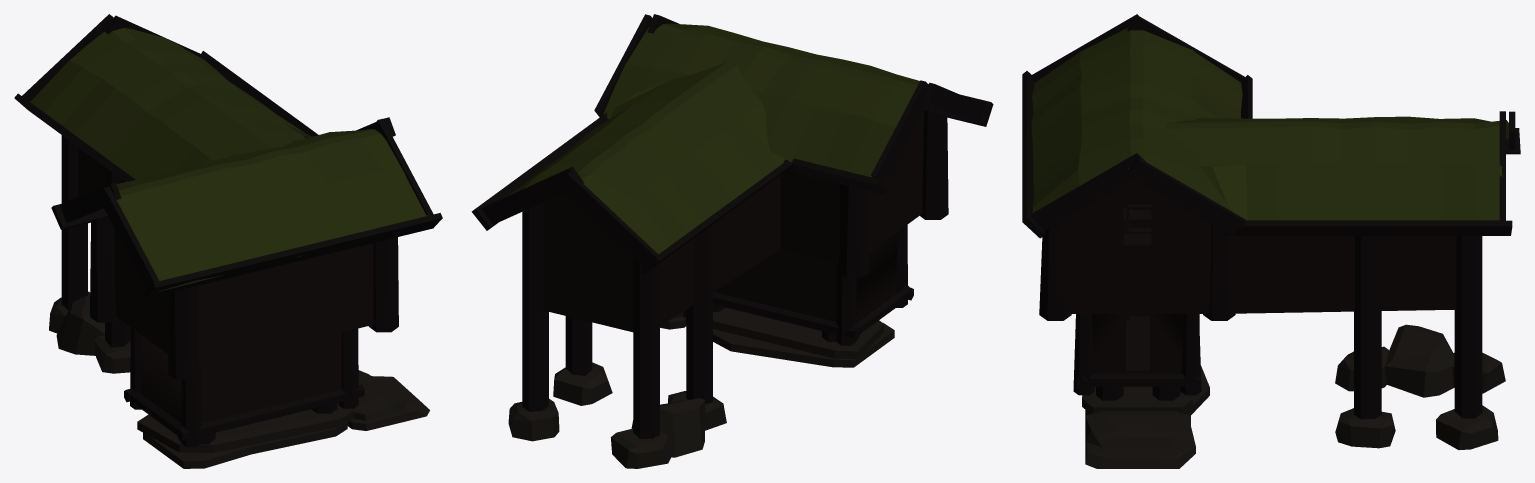
The model's file is Village_SodHouse_4.fbx.
The picture shows the model from 3 angles, left to right: view 1: azimuth 30°, elevation 25°; view 2: azimuth 150°, elevation 25°; view 3: azimuth 270°, elevation 25°; orthographic projection. The views are drawn at different scales.
Parts seen in each view (by area): view 1: Village_SodHouse_4; view 2: Village_SodHouse_4; view 3: Village_SodHouse_4.
Part boxes in pixels (left/top/right/bottom): Village_SodHouse_4: left=14, top=14, right=442, bottom=468; Village_SodHouse_4: left=471, top=14, right=993, bottom=468; Village_SodHouse_4: left=1022, top=14, right=1520, bottom=468.
Bounding box in the file's own units: 1136 × 998 × 1496.
